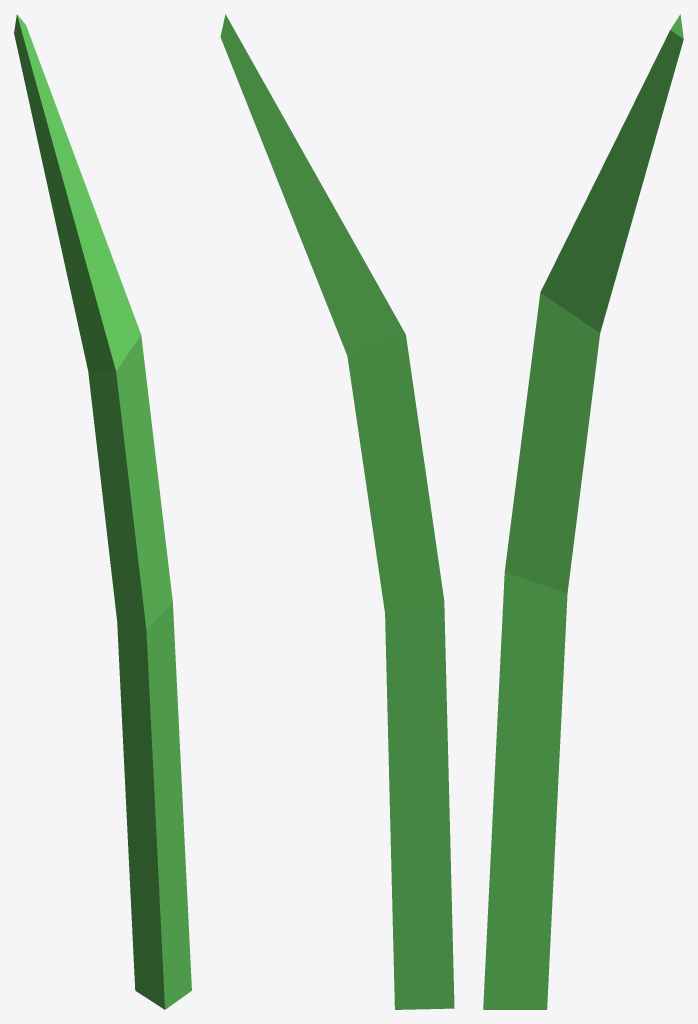
File: blade_t4.glb
3 views of the same model, side by side, from view 1: azimuth 90°, elevation 25°; view 2: azimuth 150°, elevation 25°; view 3: azimuth 270°, elevation 25° (orthographic). The views are drawn at different scales.
Visible parts, largest first — view 1: 4t; view 2: 4t; view 3: 4t.
Boxes of the visible parts, x1=… form: 4t: x1=14, y1=14, x2=191, y2=1009; 4t: x1=220, y1=14, x2=454, y2=1009; 4t: x1=483, y1=14, x2=683, y2=1009.
Bounding box in the file's own units: 0.157 × 1.01 × 0.1749.
